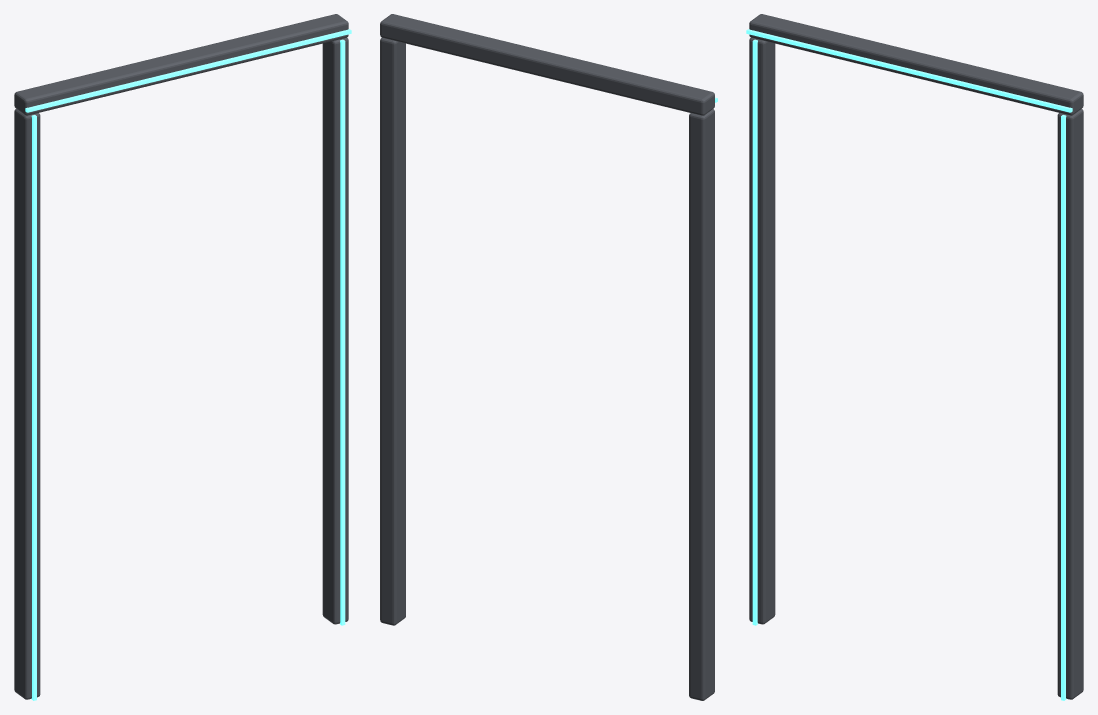
Rendered from door_surround_slim_trim.glb.
The picture shows the model from 3 angles, left to right: view 1: azimuth 30°, elevation 25°; view 2: azimuth 150°, elevation 25°; view 3: azimuth 330°, elevation 25°; orthographic projection.
Visible parts, largest first — view 1: GD_door_surround_slim_trim__m0, GD_door_surround_slim_trim__m1; view 2: GD_door_surround_slim_trim__m0; view 3: GD_door_surround_slim_trim__m0, GD_door_surround_slim_trim__m1.
Part boxes in pixels (x1=…): GD_door_surround_slim_trim__m0: x1=14, y1=14, x2=348, y2=699; GD_door_surround_slim_trim__m1: x1=25, y1=29, x2=351, y2=700; GD_door_surround_slim_trim__m0: x1=380, y1=14, x2=714, y2=700; GD_door_surround_slim_trim__m0: x1=749, y1=14, x2=1083, y2=699; GD_door_surround_slim_trim__m1: x1=746, y1=29, x2=1072, y2=700.
Bounding box in the file's own units: 1.22 × 2.16 × 0.091.
